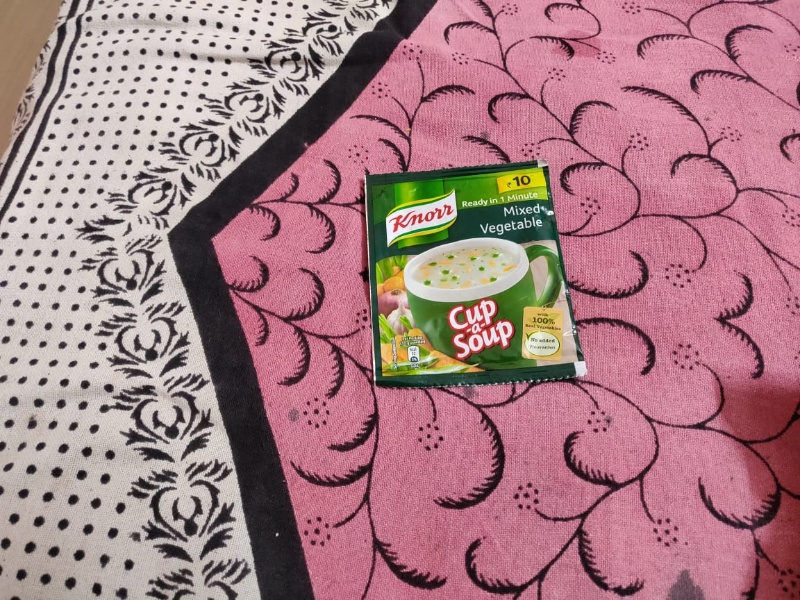Knorr_Cup_Soup: (354, 167, 585, 390)
